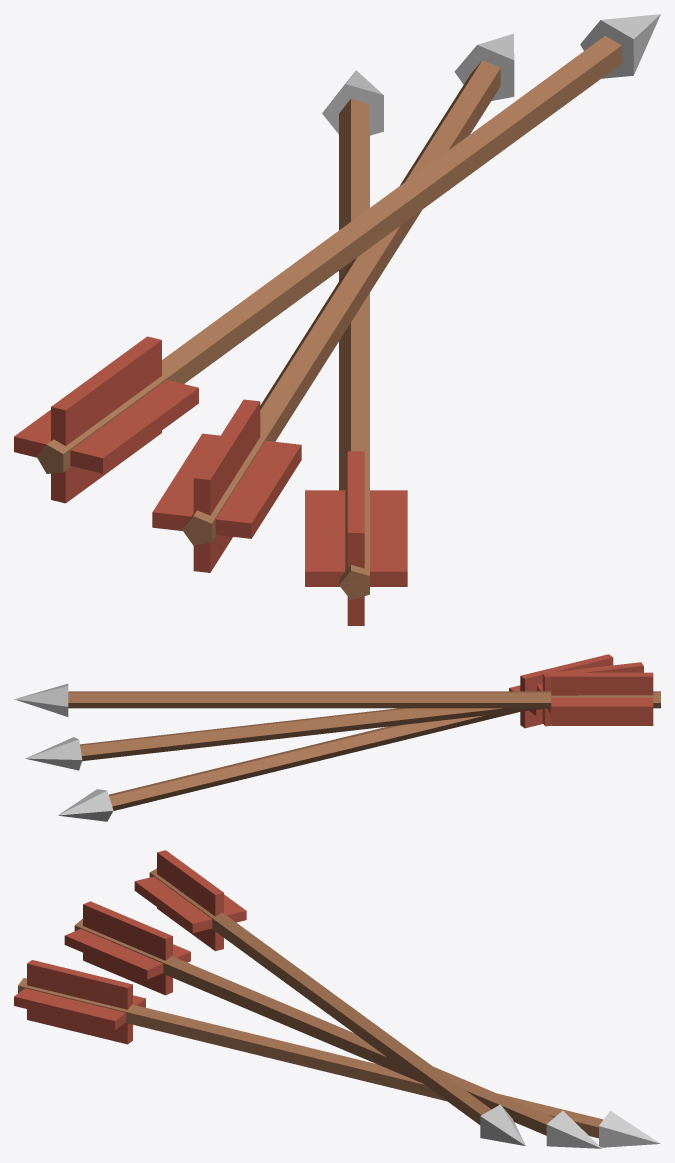
Rendered from ce_ammo2_arrow_steel_b.obj.
3 views of the same model, one above another, from view 1: azimuth 30°, elevation 25°; view 2: azimuth 150°, elevation 25°; view 3: azimuth 270°, elevation 25° (orthographic). The views are drawn at different scales.
Parts seen in each view (by area): view 1: ce_ammo2_arrow_steel_b_8, ce_ammo2_arrow_steel_b_4, ce_ammo2_arrow_steel_b_0, ce_ammo2_arrow_steel_b_2, ce_ammo2_arrow_steel_b_6, ce_ammo2_arrow_steel_b_11, ce_ammo2_arrow_steel_b_10, ce_ammo2_arrow_steel_b_7, ce_ammo2_arrow_steel_b_3, ce_ammo2_arrow_steel_b_9, ce_ammo2_arrow_steel_b_5, ce_ammo2_arrow_steel_b_1; view 2: ce_ammo2_arrow_steel_b_8, ce_ammo2_arrow_steel_b_4, ce_ammo2_arrow_steel_b_0, ce_ammo2_arrow_steel_b_11, ce_ammo2_arrow_steel_b_10, ce_ammo2_arrow_steel_b_3, ce_ammo2_arrow_steel_b_1, ce_ammo2_arrow_steel_b_5, ce_ammo2_arrow_steel_b_9, ce_ammo2_arrow_steel_b_7; view 3: ce_ammo2_arrow_steel_b_0, ce_ammo2_arrow_steel_b_8, ce_ammo2_arrow_steel_b_4, ce_ammo2_arrow_steel_b_3, ce_ammo2_arrow_steel_b_7, ce_ammo2_arrow_steel_b_11, ce_ammo2_arrow_steel_b_2, ce_ammo2_arrow_steel_b_6, ce_ammo2_arrow_steel_b_10, ce_ammo2_arrow_steel_b_1, ce_ammo2_arrow_steel_b_5, ce_ammo2_arrow_steel_b_9.
Boxes of the visible parts, x1,y1,x2,y2 form: ce_ammo2_arrow_steel_b_8: (37, 36, 621, 473); ce_ammo2_arrow_steel_b_4: (182, 60, 500, 545); ce_ammo2_arrow_steel_b_0: (339, 99, 369, 599); ce_ammo2_arrow_steel_b_2: (305, 490, 407, 586); ce_ammo2_arrow_steel_b_6: (152, 433, 301, 538); ce_ammo2_arrow_steel_b_11: (51, 336, 161, 503); ce_ammo2_arrow_steel_b_10: (14, 380, 198, 473); ce_ammo2_arrow_steel_b_7: (193, 399, 260, 572); ce_ammo2_arrow_steel_b_3: (347, 451, 364, 625); ce_ammo2_arrow_steel_b_9: (580, 14, 660, 78); ce_ammo2_arrow_steel_b_5: (454, 33, 514, 100); ce_ammo2_arrow_steel_b_1: (322, 70, 383, 135); ce_ammo2_arrow_steel_b_8: (68, 691, 660, 708); ce_ammo2_arrow_steel_b_4: (80, 708, 544, 761); ce_ammo2_arrow_steel_b_0: (109, 711, 519, 810); ce_ammo2_arrow_steel_b_11: (551, 672, 653, 725); ce_ammo2_arrow_steel_b_10: (551, 697, 653, 714); ce_ammo2_arrow_steel_b_3: (520, 654, 613, 728); ce_ammo2_arrow_steel_b_1: (58, 789, 113, 821); ce_ammo2_arrow_steel_b_5: (25, 737, 82, 770); ce_ammo2_arrow_steel_b_9: (14, 683, 68, 716); ce_ammo2_arrow_steel_b_7: (542, 662, 643, 726); ce_ammo2_arrow_steel_b_0: (18, 978, 603, 1138); ce_ammo2_arrow_steel_b_8: (149, 868, 491, 1124); ce_ammo2_arrow_steel_b_4: (74, 919, 553, 1135); ce_ammo2_arrow_steel_b_3: (27, 960, 132, 1044); ce_ammo2_arrow_steel_b_7: (83, 901, 172, 995); ce_ammo2_arrow_steel_b_11: (157, 850, 223, 951); ce_ammo2_arrow_steel_b_2: (14, 988, 145, 1030); ce_ammo2_arrow_steel_b_6: (64, 929, 190, 979); ce_ammo2_arrow_steel_b_10: (134, 876, 246, 932); ce_ammo2_arrow_steel_b_1: (599, 1111, 660, 1147); ce_ammo2_arrow_steel_b_5: (546, 1111, 601, 1148); ce_ammo2_arrow_steel_b_9: (480, 1104, 525, 1145).
Bounding box in the file's own units: 0.7498 × 0.142 × 0.7498.
